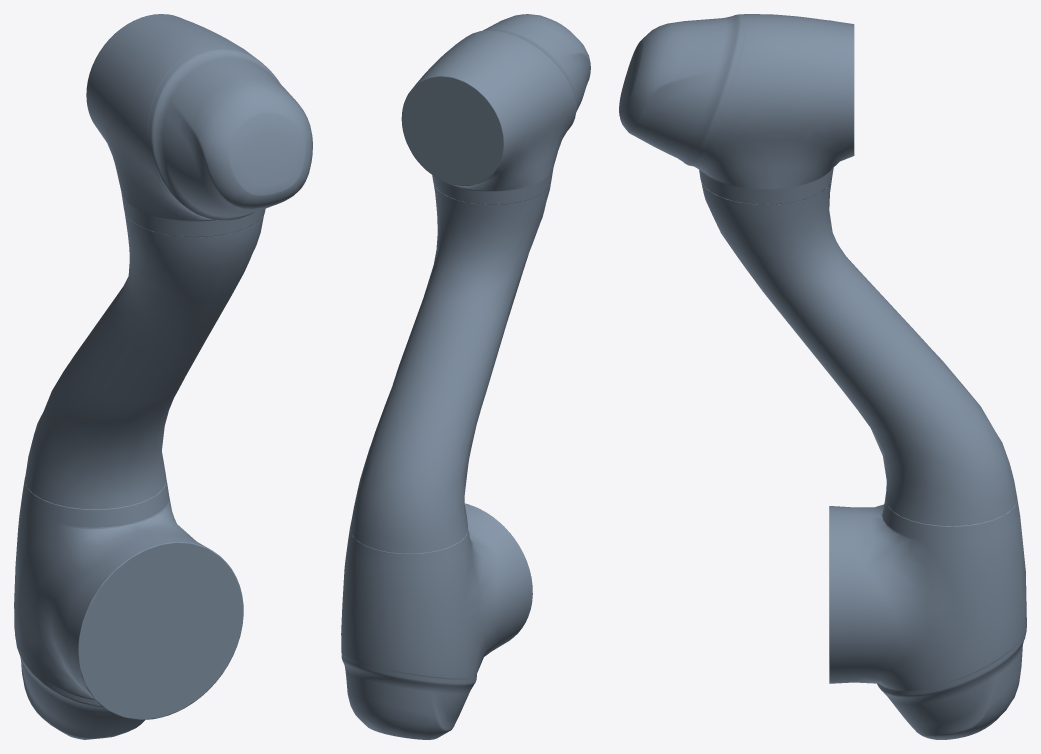
Rendered from DoosanA0509S_j2.gltf.
The picture shows the model from 3 angles, left to right: view 1: azimuth 30°, elevation 25°; view 2: azimuth 150°, elevation 25°; view 3: azimuth 270°, elevation 25°; orthographic projection. The views are drawn at different scales.
Parts seen in each view (by area): view 1: Fusion; view 2: Fusion; view 3: Fusion.
Boxes of the visible parts, bbox=[...] form: Fusion: bbox=[14, 14, 312, 739]; Fusion: bbox=[341, 14, 590, 739]; Fusion: bbox=[619, 14, 1026, 739].
Bounding box in the file's own units: 0.1172 × 0.5156 × 0.2689.
